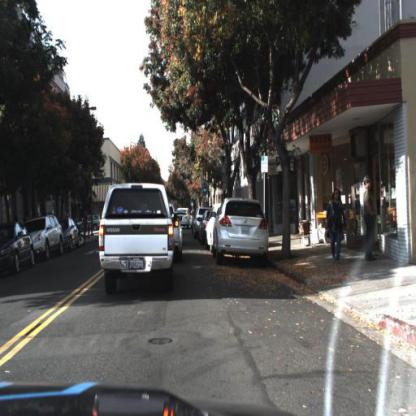car: (99, 181, 174, 293), (215, 197, 271, 267), (1, 222, 36, 276), (32, 215, 63, 262), (62, 218, 80, 252), (61, 217, 81, 244), (78, 214, 101, 232), (178, 203, 191, 232), (176, 207, 194, 227)
pedestrian: (326, 188, 347, 261), (327, 186, 346, 265), (363, 174, 377, 264), (363, 176, 374, 262)
